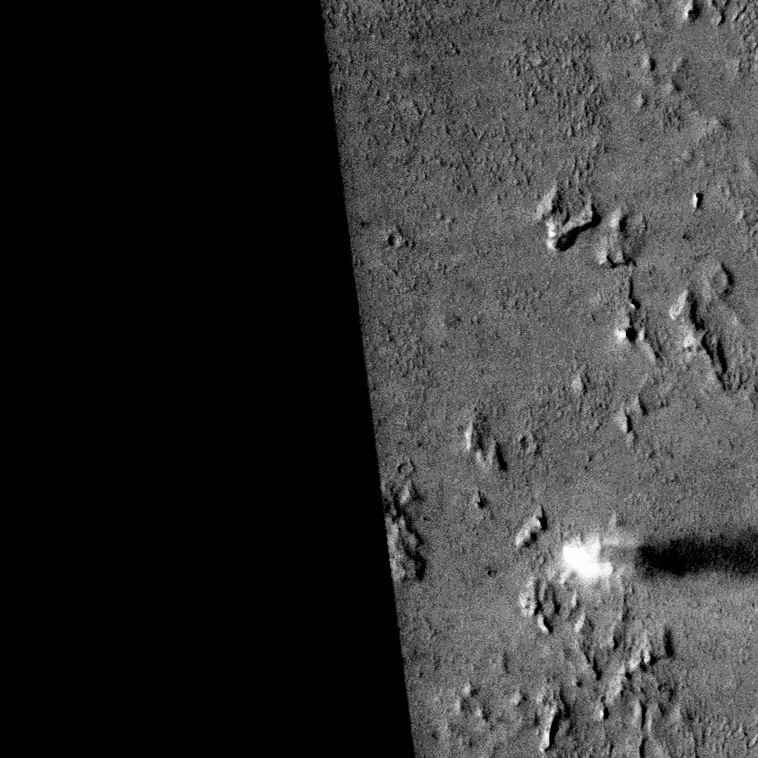dust_devil: (557, 525, 758, 588)
